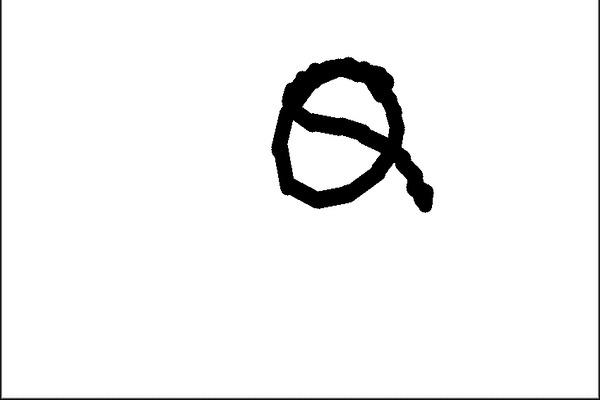Q: (265, 54, 438, 222)
